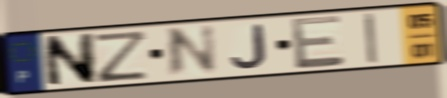E: (288, 13, 348, 72)
I: (361, 10, 380, 66)
J: (229, 23, 270, 71)
N: (41, 31, 99, 89), (164, 22, 220, 81)
Z: (92, 28, 151, 85)
